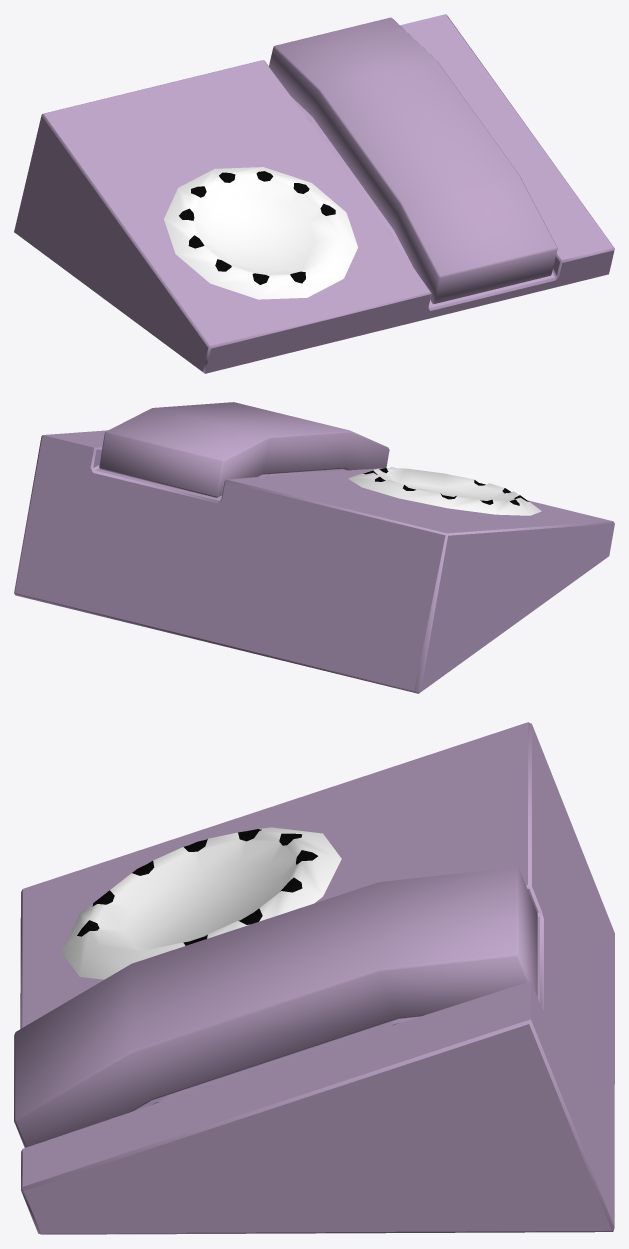
The model's file is phone.fbx.
3 views of the same model, one above another, from view 1: azimuth 30°, elevation 25°; view 2: azimuth 150°, elevation 25°; view 3: azimuth 270°, elevation 25° (orthographic). The views are drawn at different scales.
Parts seen in each view (by area): view 1: Würfel_21, Würfel_1, Scheibe_1; view 2: Würfel_21, Würfel_1, Scheibe_1; view 3: Würfel_21, Würfel_1, Scheibe_1.
Part boxes in pixels (left/top/right/bottom): Würfel_21: left=14, top=14, right=614, bottom=373; Würfel_1: left=269, top=17, right=557, bottom=304; Scheibe_1: left=164, top=167, right=357, bottom=299; Würfel_21: left=14, top=430, right=614, bottom=693; Würfel_1: left=99, top=402, right=389, bottom=497; Scheibe_1: left=348, top=468, right=541, bottom=515; Würfel_21: left=20, top=722, right=614, bottom=1234; Würfel_1: left=14, top=867, right=537, bottom=1147; Scheibe_1: left=61, top=827, right=341, bottom=979.
Bounding box in the file's own units: 23.8 × 8.79 × 20.11.
1 material, 1 textured.
